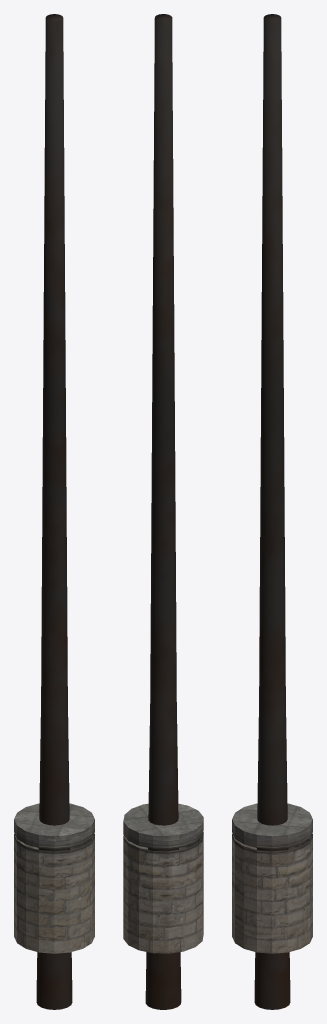
Rendered from zocalo_flag_post.dae.
The picture shows the model from 3 angles, left to right: view 1: azimuth 90°, elevation 25°; view 2: azimuth 210°, elevation 25°; view 3: azimuth 270°, elevation 25°; orthographic projection.
Parts seen in each view (by area): view 1: ZocaloFlag; view 2: ZocaloFlag; view 3: ZocaloFlag.
Boxes of the visible parts, bbox=[...] form: ZocaloFlag: bbox=[14, 14, 94, 1009]; ZocaloFlag: bbox=[123, 14, 203, 1009]; ZocaloFlag: bbox=[232, 14, 312, 1009].
Size of the model in its own units: 3.74 by 3.74 by 50.21.
